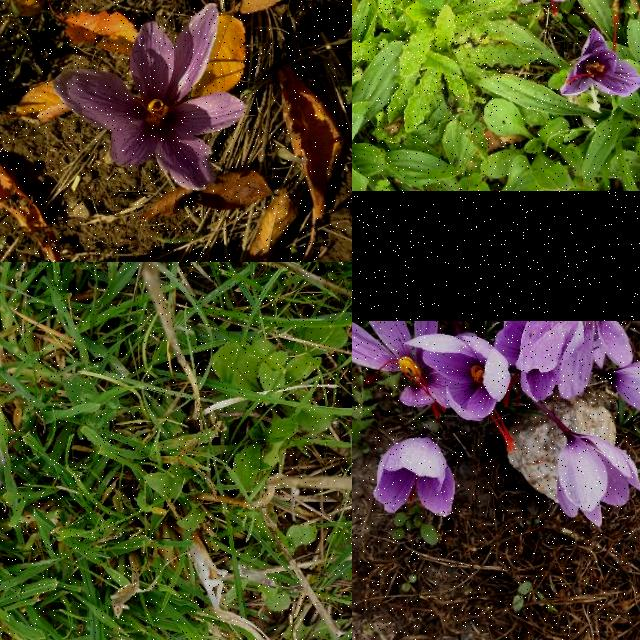flower: (52, 3, 246, 190), (406, 332, 516, 452), (556, 422, 640, 529), (372, 432, 454, 518), (561, 12, 640, 97), (604, 358, 640, 422)
overlap: (352, 321, 634, 419)
